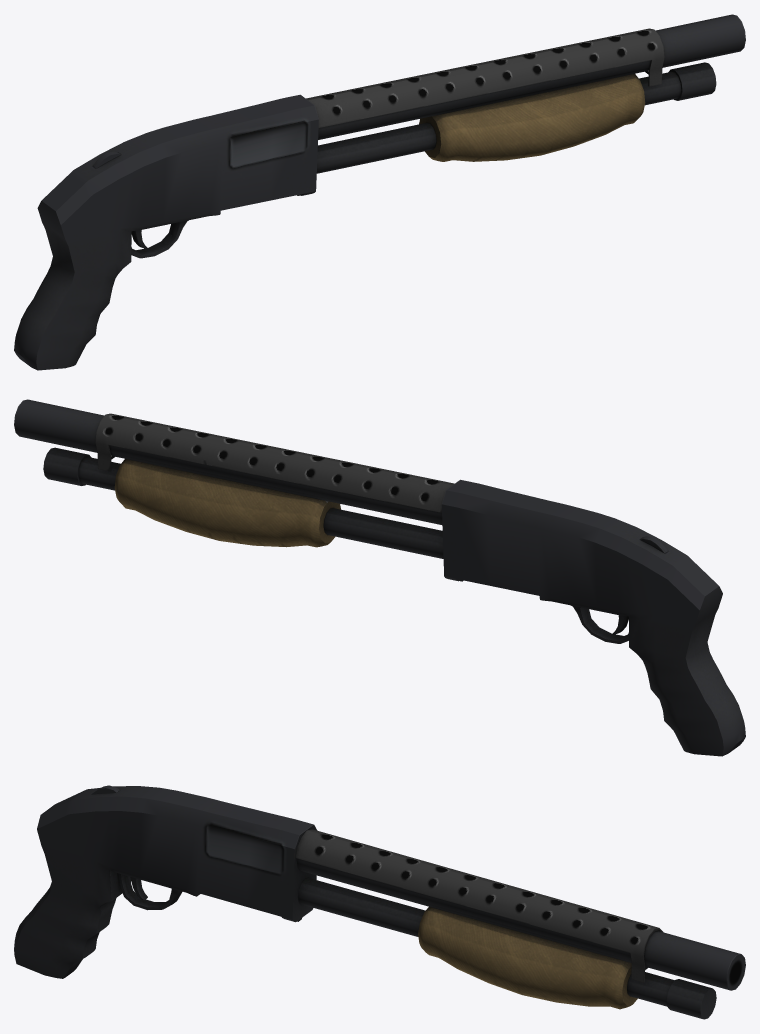
Rendered from shotgun_000035.obj.
The picture shows the model from 3 angles, top to bottom: view 1: azimuth 30°, elevation 25°; view 2: azimuth 150°, elevation 25°; view 3: azimuth 330°, elevation 25°; orthographic projection.
Parts seen in each view (by area): view 1: mesh_Cube.001; view 2: mesh_Cube.001; view 3: mesh_Cube.001.
Part boxes in pixels (x1=…): mesh_Cube.001: x1=14, y1=14, x2=745, y2=370; mesh_Cube.001: x1=14, y1=399, x2=745, y2=756; mesh_Cube.001: x1=14, y1=785, x2=745, y2=1019.
Size of the model in its own units: 1.9 by 0.5179 by 0.1708.
Materials: 1 (1 with a texture image).
